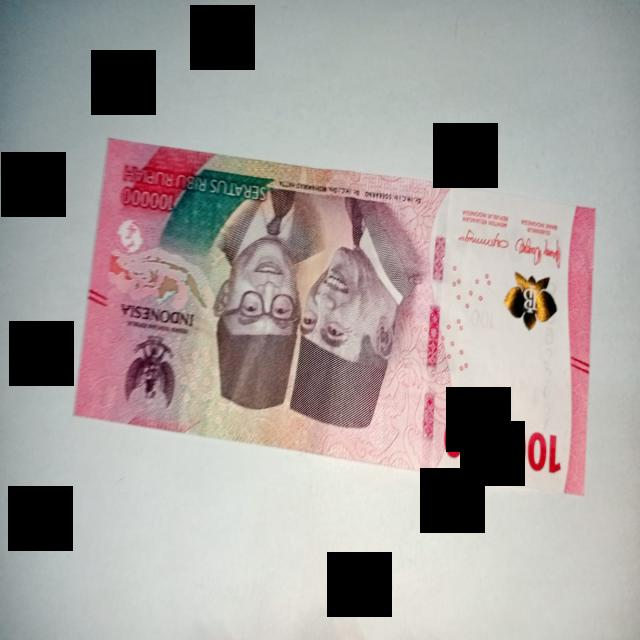seratusribu rupiah: (75, 140, 595, 494)
